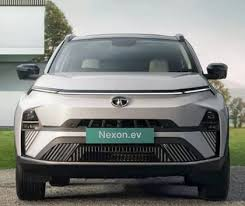Tata Nexon: (12, 31, 230, 202)
